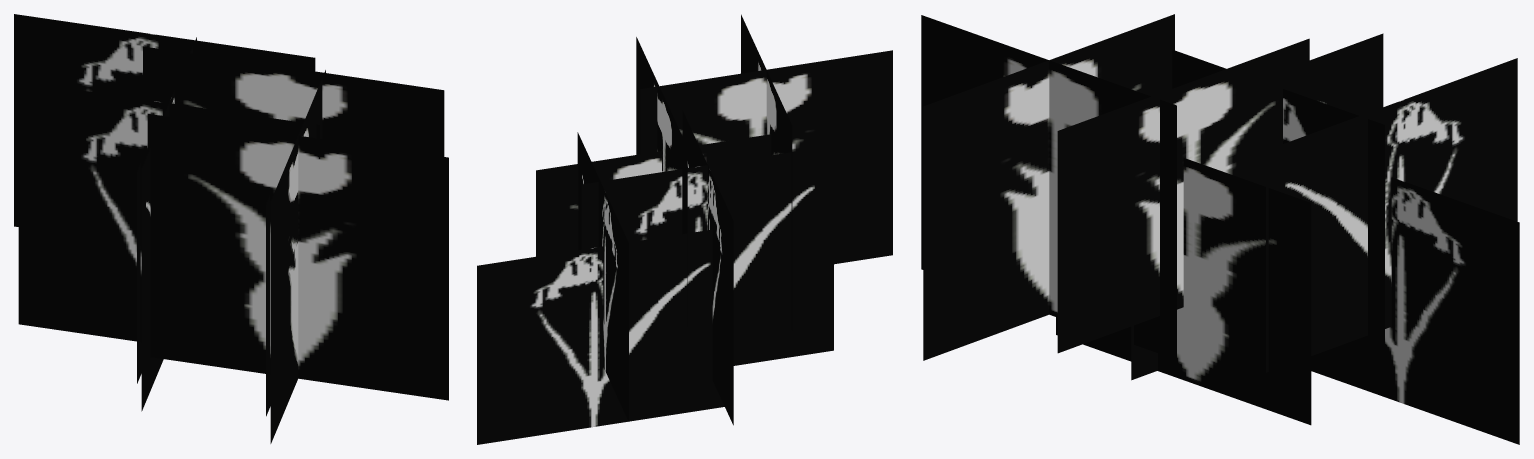
3 views of the same model, side by side, from view 1: azimuth 30°, elevation 25°; view 2: azimuth 150°, elevation 25°; view 3: azimuth 270°, elevation 25° (orthographic). The views are drawn at different scales.
Parts seen in each view (by area): view 1: Object83; view 2: Object83; view 3: Object83.
Boxes of the visible parts, box(x1,y1,x2,y2) form: Object83: box(14, 14, 448, 443); Object83: box(477, 14, 892, 444); Object83: box(921, 14, 1519, 444).
Size of the model in its own units: 16.72 by 18.62 by 30.58.
